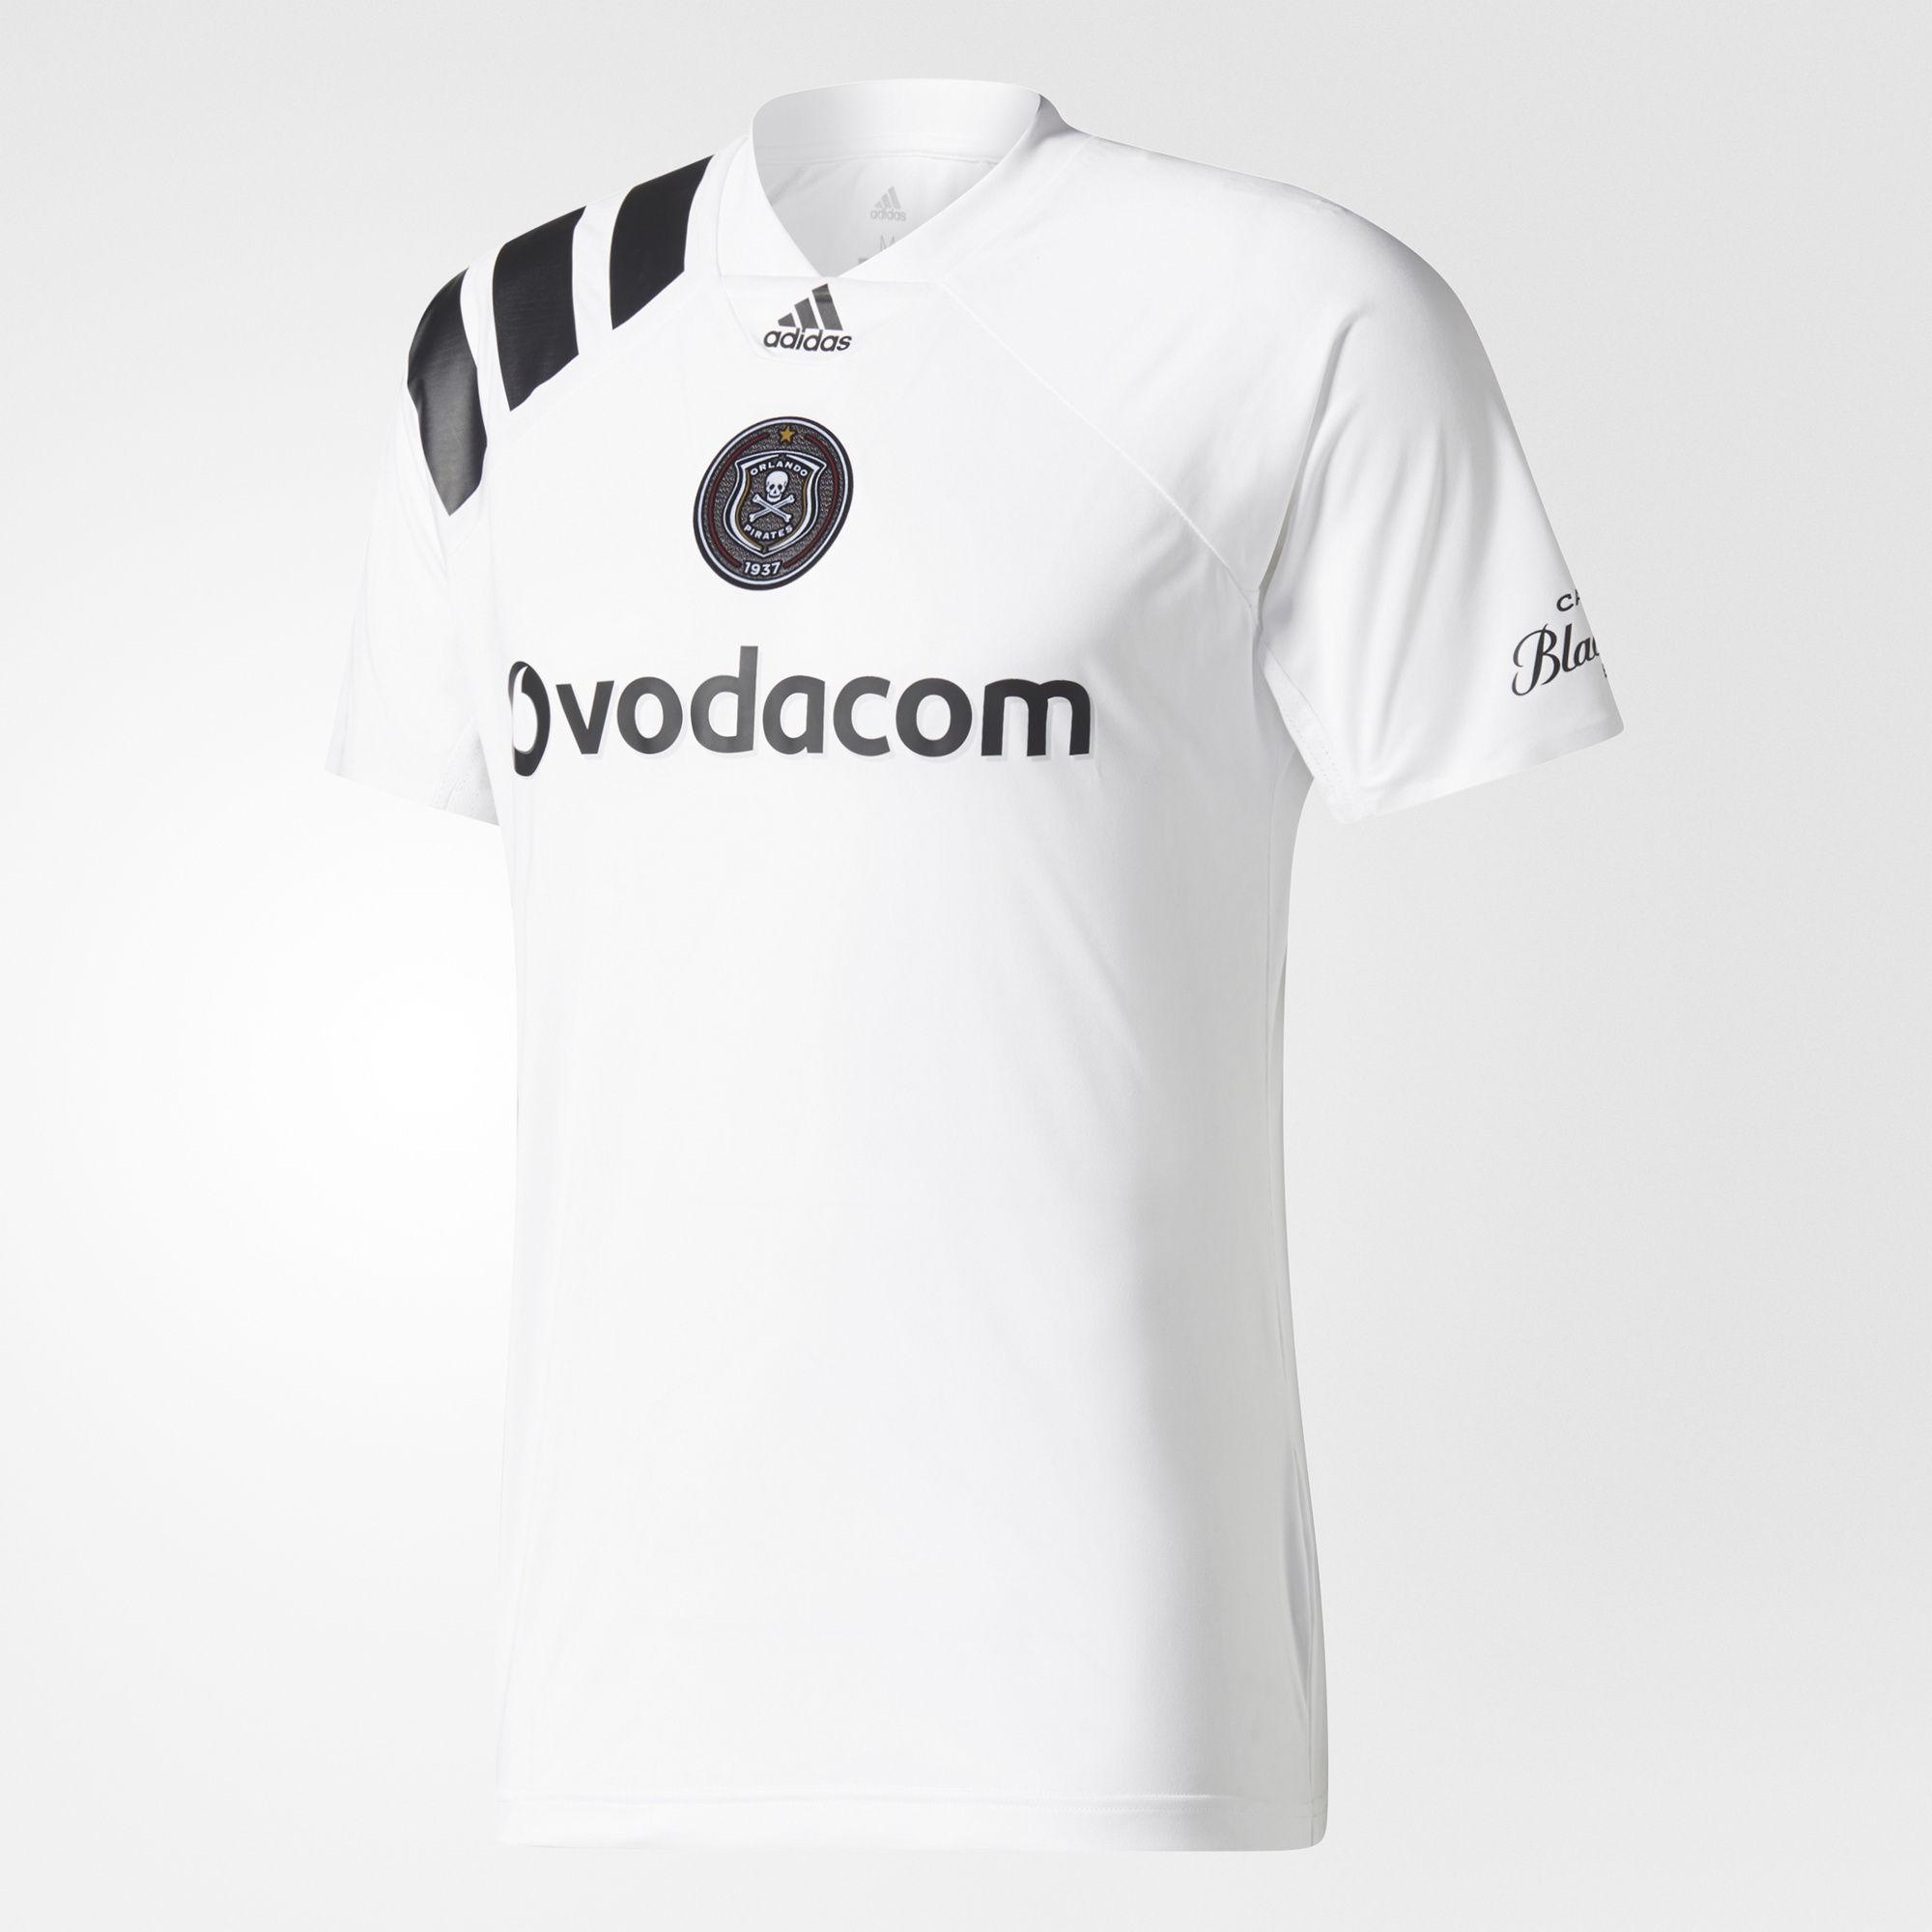teeshirt: (290, 76, 1693, 1907)
